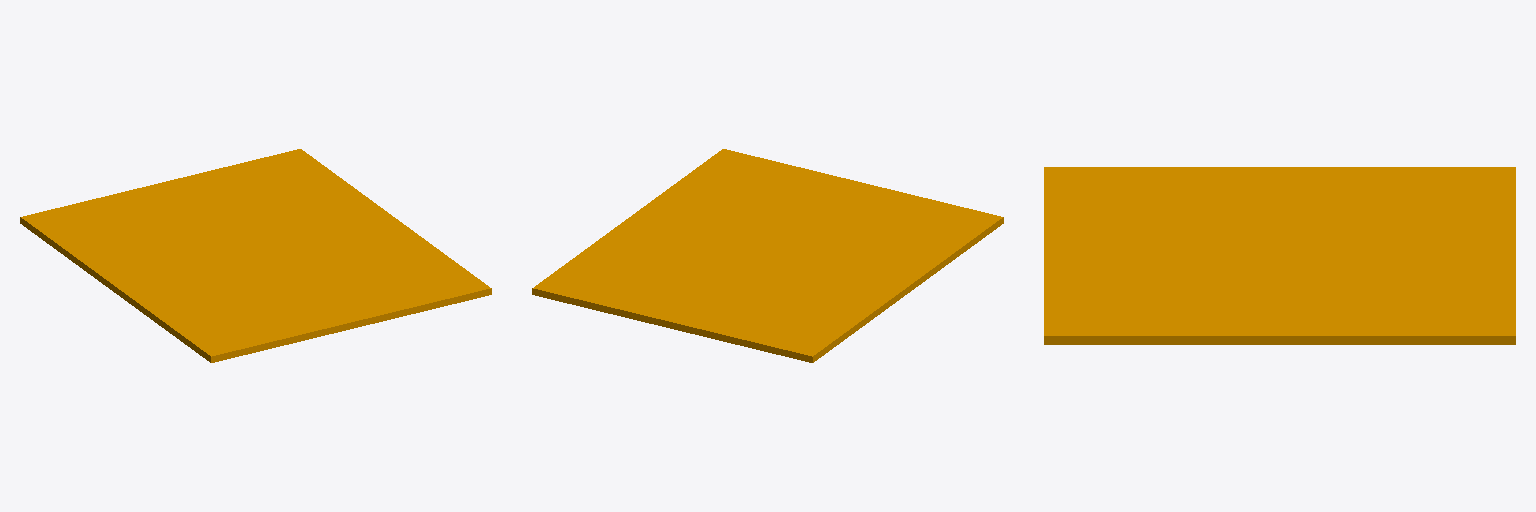
The robot description file, URDF, robot "stm32_nucleo64":
<?xml version="1.0" encoding="utf-8"?>
<!-- STM32 Nucleo-64（MB1136 参考板）板体近似模型（box 近似，非真实外壳网格）。
     坐标约定：原点 = 板外形几何中心；X = 宽（70.00mm），Y = 长（82.50mm，+Y = ST-LINK 端），
     Z 垂直板面，z=0 为板厚中面。尺寸来源见同目录 board.yaml 的 sources 段。
     外形 70.00 x 82.50 mm 来自 ST UM1724 Rev 17 §7.2 Figure 5 标注。 -->
<robot name="stm32_nucleo64">
  <link name="base_link">
    <visual>
      <geometry>
        <!-- UNVERIFIED 占位：z=0.0016 是标称 PCB 厚度的绘图占位值，不是有来源的尺寸；
             board.yaml 的 thickness 为 null。实测后替换。x/y 为有来源的外形尺寸。 -->
        <box size="0.07 0.0825 0.0016"/>
      </geometry>
      <origin xyz="0 0 0" rpy="0 0 0"/>
    </visual>
  </link>

  <!-- 三个挂载点为跨仓约定命名（PPM 导阈值按名字找），不改名不加前缀。
       位置是模型库的设计建议（约定），不是板子实测特征：
       camera = +Y 长边端中心（ST-LINK 端），sensor = -Y 长边端中心（MCU target 端），
       bracket = 板中心。z=0（板厚中面约定）；rpy 中项为俯仰角槽位，当前 0 = 水平朝前占位，
       正前方基准角由几何→阈值映射层定义（本单不做）。 -->
  <link name="mount_camera"/>
  <link name="mount_sensor"/>
  <link name="mount_bracket"/>

  <joint name="base_to_mount_camera" type="fixed">
    <parent link="base_link"/>
    <child link="mount_camera"/>
    <origin xyz="0 0.04125 0" rpy="0 0 0"/>
  </joint>
  <joint name="base_to_mount_sensor" type="fixed">
    <parent link="base_link"/>
    <child link="mount_sensor"/>
    <origin xyz="0 -0.04125 0" rpy="0 0 0"/>
  </joint>
  <joint name="base_to_mount_bracket" type="fixed">
    <parent link="base_link"/>
    <child link="mount_bracket"/>
    <origin xyz="0 0 0" rpy="0 0 0"/>
  </joint>

  <!-- 无 hole_N link：UM1724 Rev 17 Figure 5 可见 3 个安装孔，但孔位/孔径无法从
       栅格图可靠换算（像素测量与图上标注 10.87/3.04/57.54 交叉验证失败，已弃用）。
       见 board.yaml mount_holes 的 null 条目。不编造孔位。 -->
</robot>

--- What the picture shows (computed from the rendered views, not written in the file) ---
Views: 3 orthographic renders of the robot side by side, from view 1: azimuth 30°, elevation 25°; view 2: azimuth 150°, elevation 25°; view 3: azimuth 270°, elevation 25°.
Robot: stm32_nucleo64 — 4 links, 3 joints (3 fixed); root link base_link; default pose: every joint at zero.
Links seen in each view (by area): view 1: base_link; view 2: base_link; view 3: base_link.
Link boxes in pixels (left/top/right/bottom): base_link: left=20, top=149, right=491, bottom=362; base_link: left=532, top=149, right=1003, bottom=362; base_link: left=1044, top=167, right=1515, bottom=344.
Size in the robot's own frame: 0.07 by 0.0825 by 0.0016 metres.
Geometry: primitives only (box / cylinder / sphere), no mesh files.
